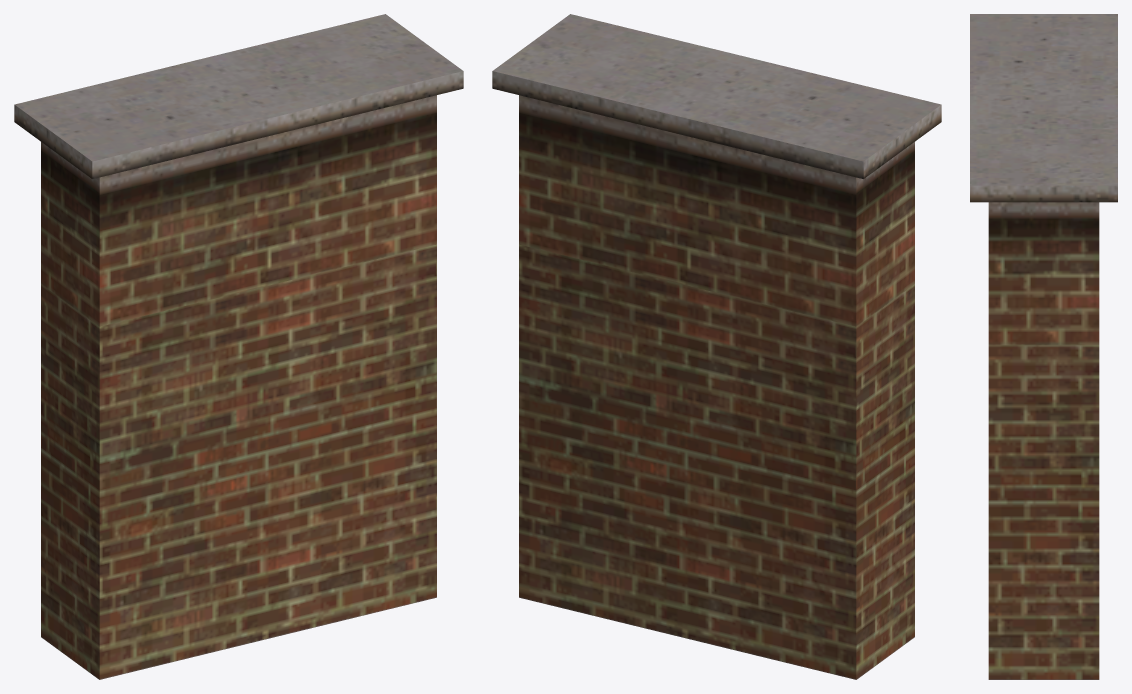
File: parkwallend.fbx
3 views of the same model, side by side, from view 1: azimuth 30°, elevation 25°; view 2: azimuth 150°, elevation 25°; view 3: azimuth 270°, elevation 25° (orthographic). The views are drawn at different scales.
Visible parts, largest first — view 1: mesh_0; view 2: mesh_0; view 3: mesh_0.
Boxes of the visible parts, bbox=[...] form: mesh_0: bbox=[14, 14, 463, 679]; mesh_0: bbox=[492, 14, 941, 679]; mesh_0: bbox=[970, 14, 1117, 679].
Size of the model in its own units: 220 by 300 by 80.
1 material, 1 textured.
